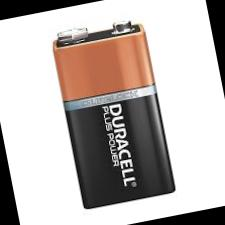battery: (31, 3, 192, 222)
